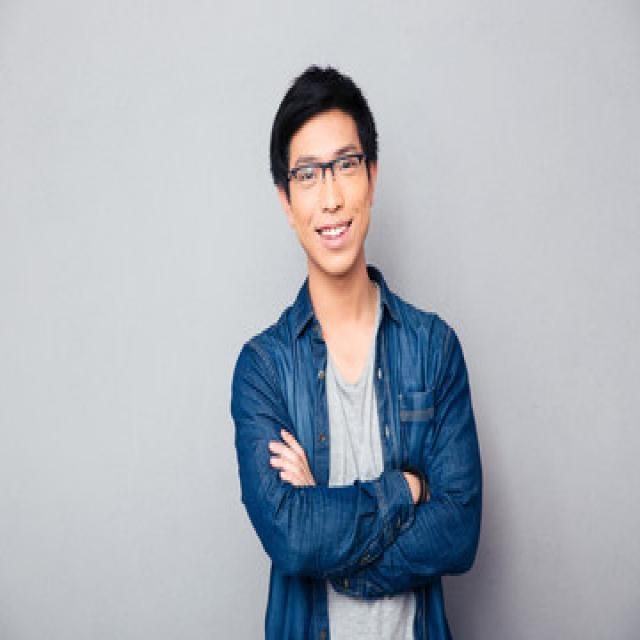Nonhelmet: (263, 63, 387, 280)
